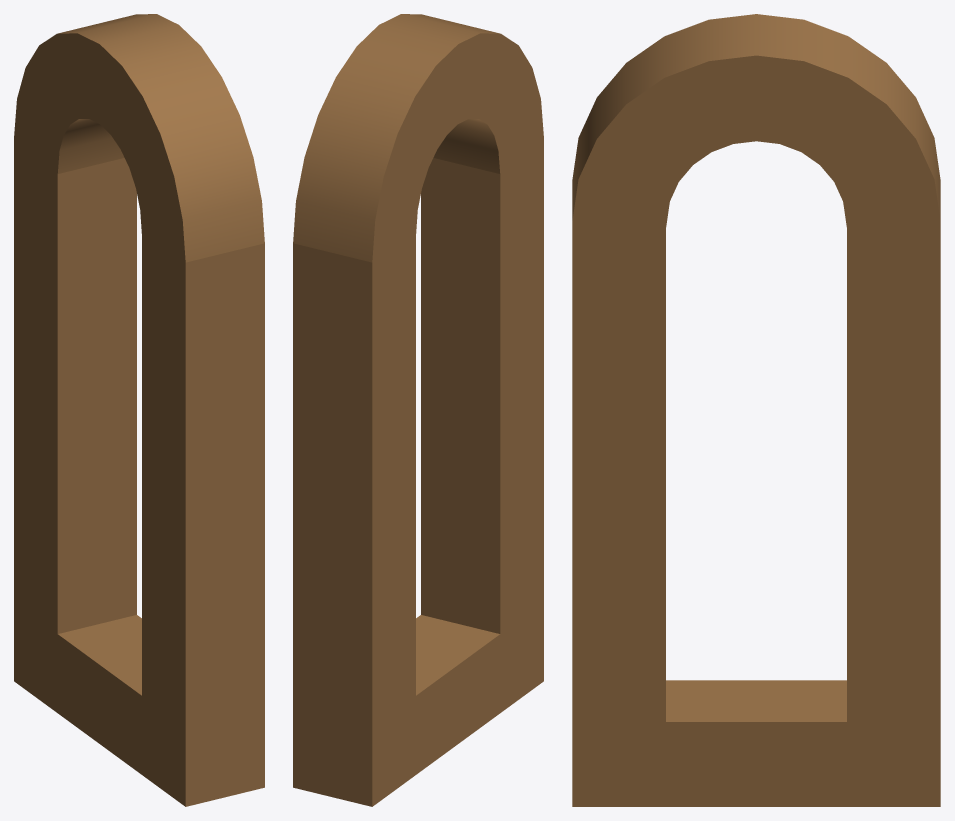
Rendered from detail_021.dae.
3 views of the same model, side by side, from view 1: azimuth 30°, elevation 25°; view 2: azimuth 150°, elevation 25°; view 3: azimuth 270°, elevation 25° (orthographic). The views are drawn at different scales.
Visible parts, largest first — view 1: detail_021; view 2: detail_021; view 3: detail_021.
Boxes of the visible parts, box(x1,y1,x2,y2) form: detail_021: box(14, 14, 264, 806); detail_021: box(293, 14, 543, 806); detail_021: box(572, 14, 940, 806).
Bounding box in the file's own units: 0.05 × 0.4219 × 0.1875.
